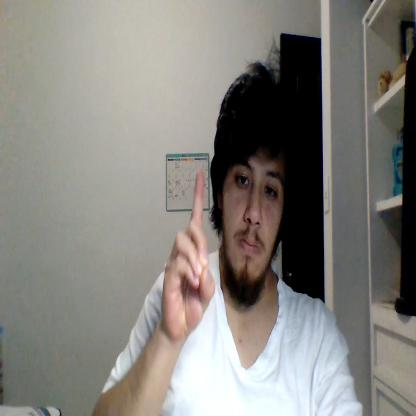D: (162, 168, 215, 338)
